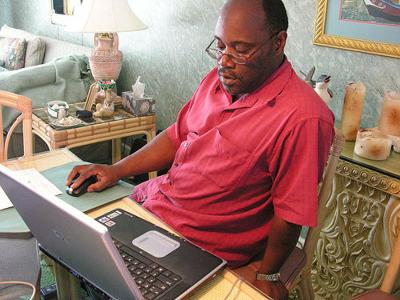person: (65, 1, 336, 299)
